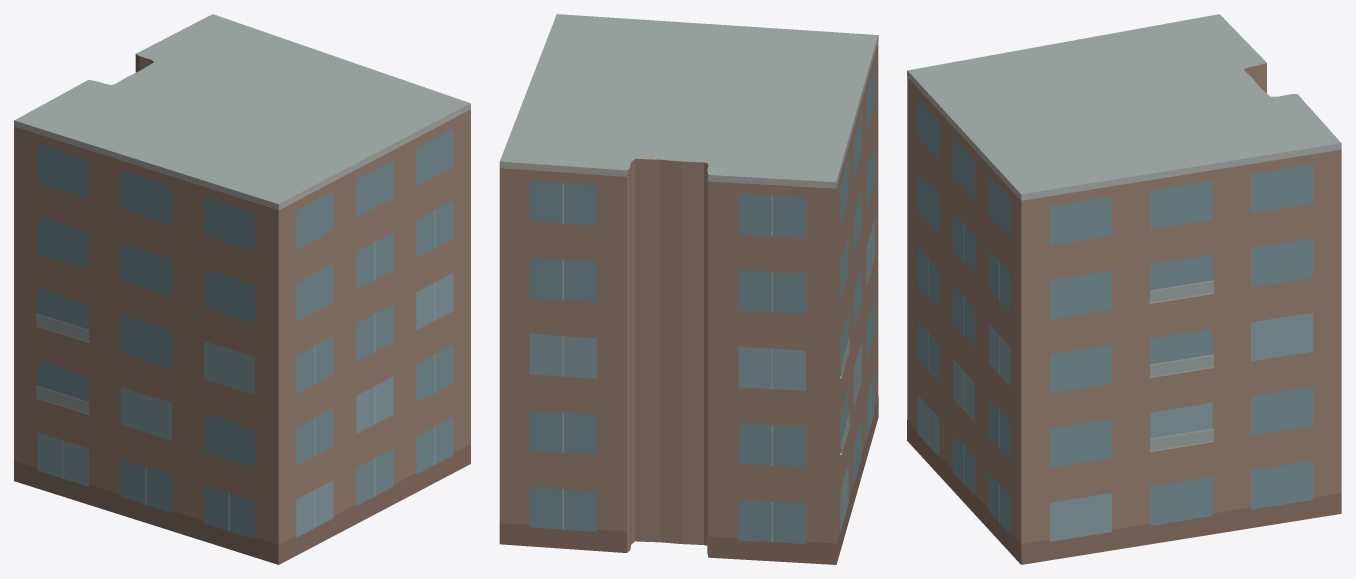
Rendered from survey-upis-32882512.glb.
3 views of the same model, side by side, from view 1: azimuth 30°, elevation 25°; view 2: azimuth 150°, elevation 25°; view 3: azimuth 270°, elevation 25° (orthographic). The views are drawn at different scales.
Parts seen in each view (by area): view 1: survey-upis-32882512.tmp; view 2: survey-upis-32882512.tmp; view 3: survey-upis-32882512.tmp.
Boxes of the visible parts, <box> form: survey-upis-32882512.tmp: <box>14,14,470,564</box>; survey-upis-32882512.tmp: <box>499,14,878,564</box>; survey-upis-32882512.tmp: <box>907,14,1341,564</box>.
Bounding box in the file's own units: 15.06 × 14.4 × 15.32.
